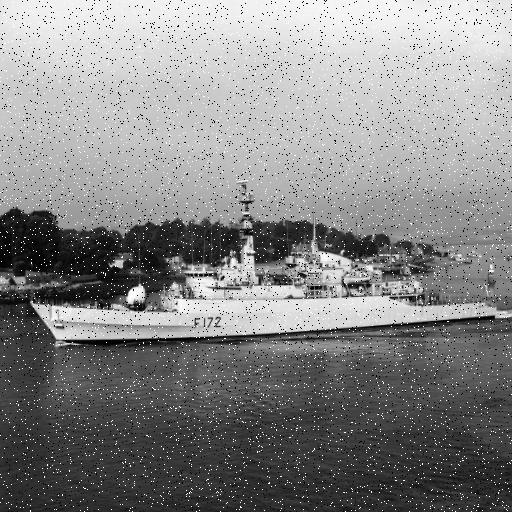Fragata: (27, 169, 501, 355)
